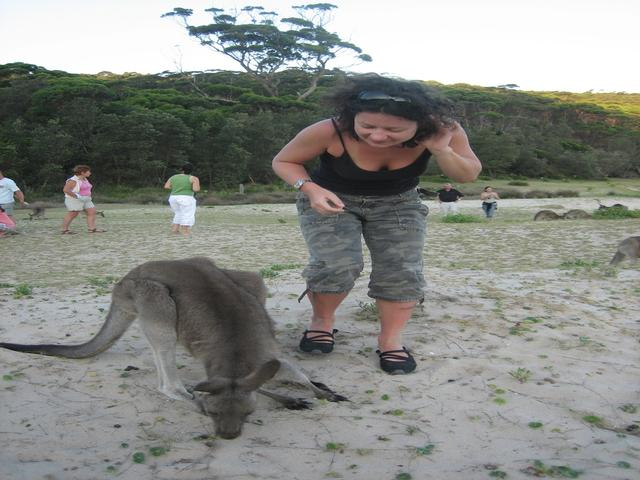kangaroo: (25, 196, 347, 445)
